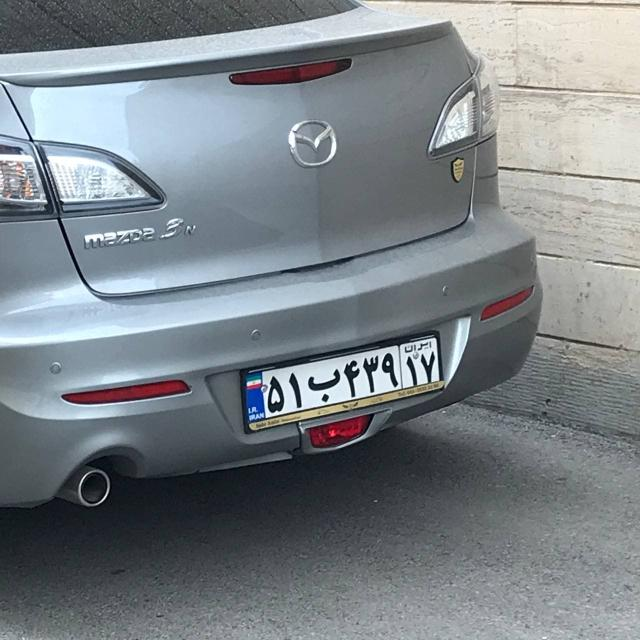Plates: (238, 334, 446, 423)
